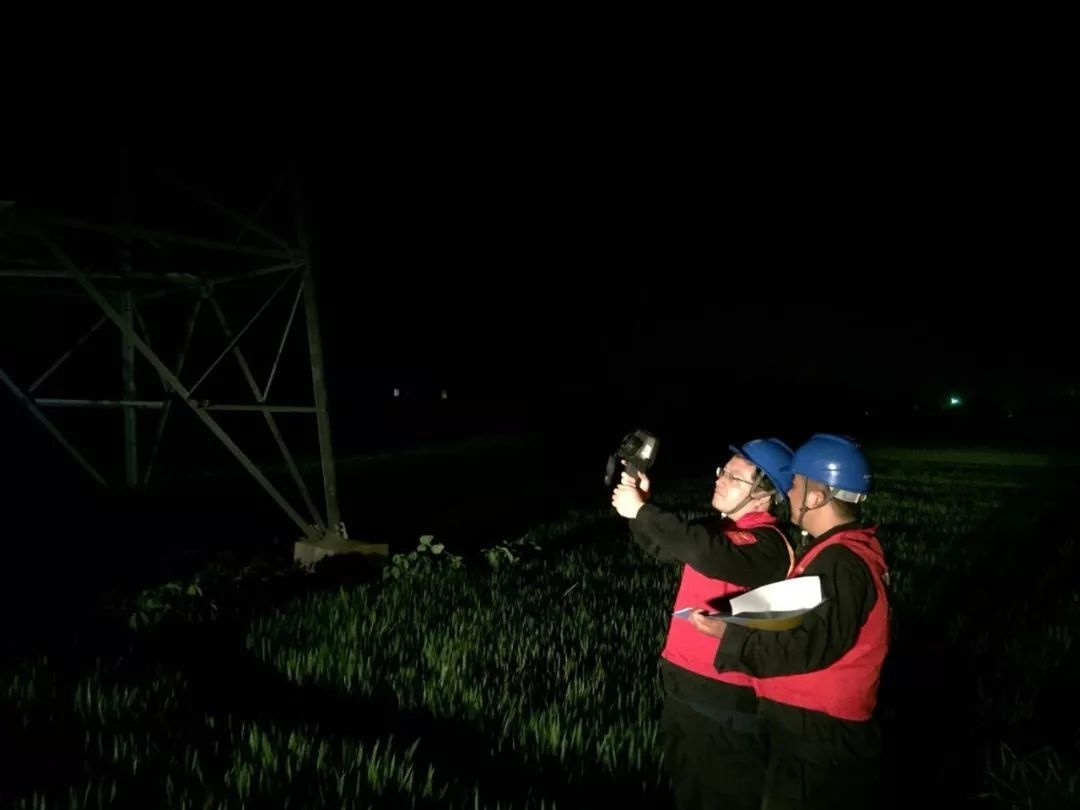blue: (789, 433, 872, 529), (712, 439, 791, 521)
